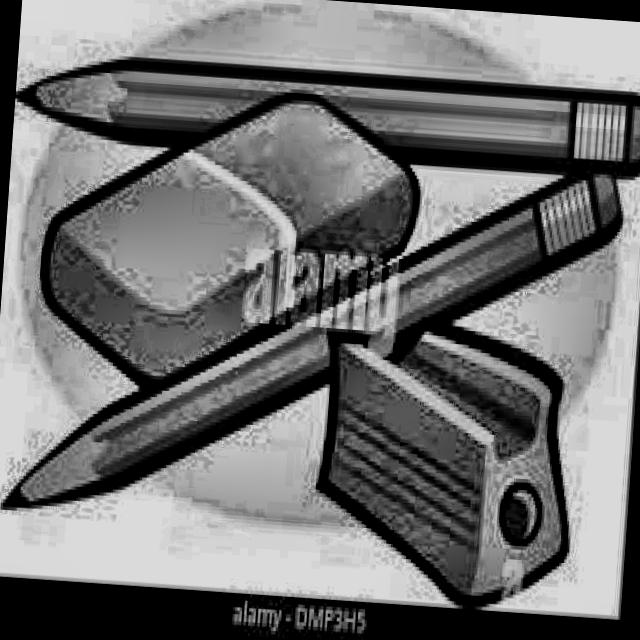eraser: (52, 61, 436, 402)
